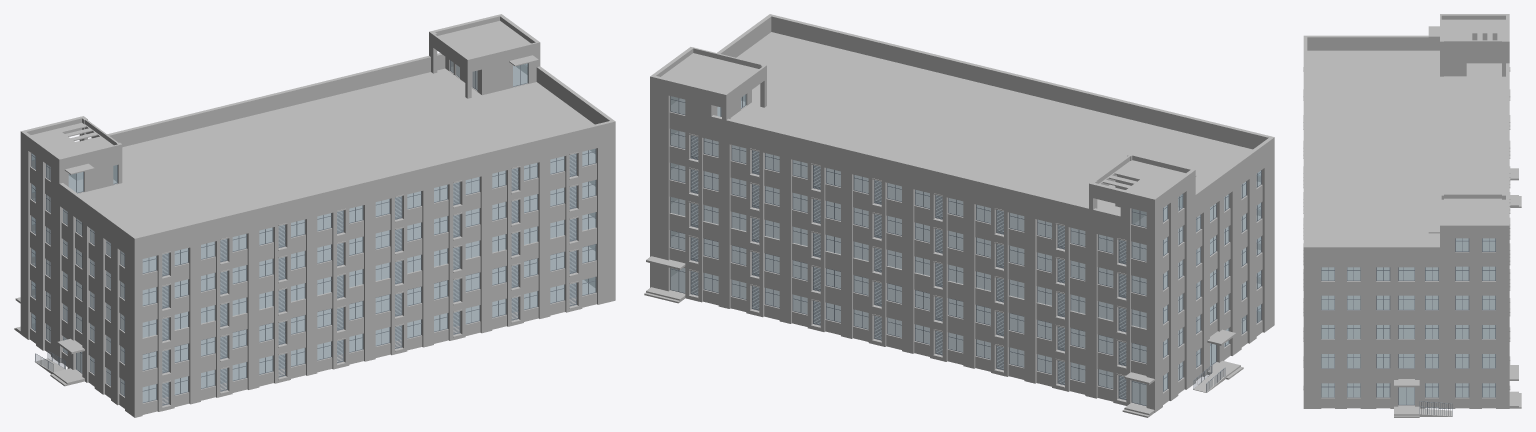
File: lou05.fbx
The picture shows the model from 3 angles, left to right: view 1: azimuth 30°, elevation 25°; view 2: azimuth 150°, elevation 25°; view 3: azimuth 270°, elevation 25°; orthographic projection. The views are drawn at different scales.
Visible parts, largest first — view 1: Obj3d66-1371392-8984-43; view 2: Obj3d66-1371392-8984-43; view 3: Obj3d66-1371392-8984-43.
Part boxes in pixels (x1,y1,x2,y2): Obj3d66-1371392-8984-43: (14,14,615,417); Obj3d66-1371392-8984-43: (644,14,1274,417); Obj3d66-1371392-8984-43: (1303,14,1521,417).
Bounding box in the file's own units: 5910 × 2202 × 2375.
